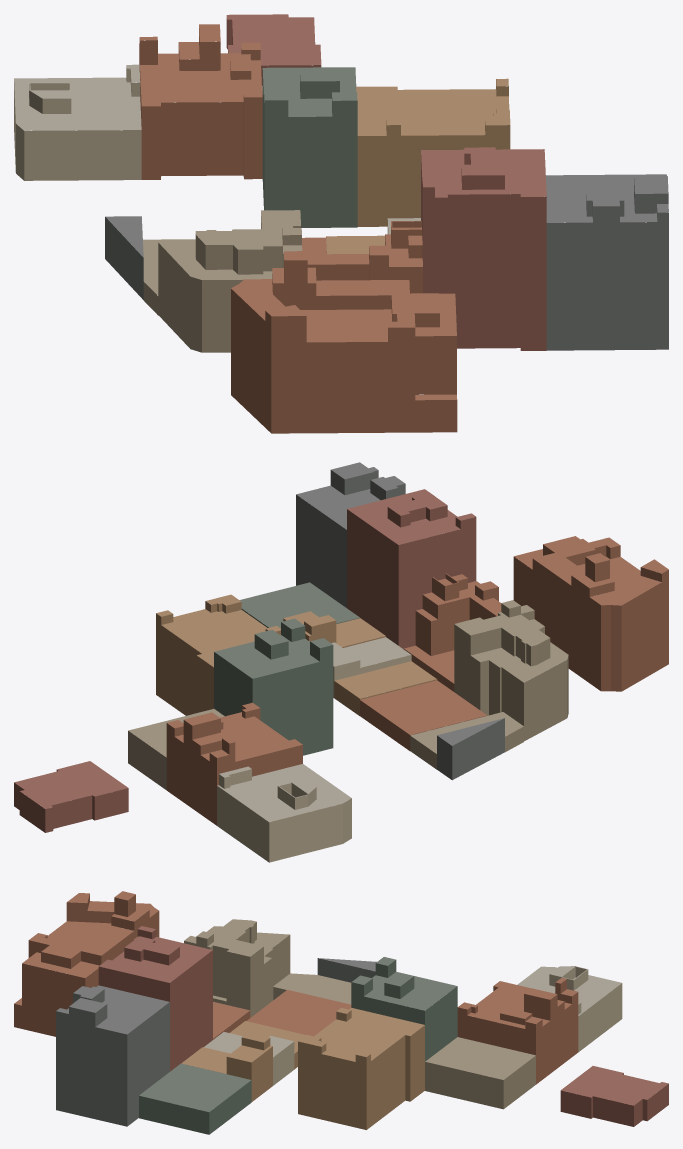
File: tile--5_-10.glb
3 renders of one model, top to bottom at view 1: azimuth 30°, elevation 25°; view 2: azimuth 150°, elevation 25°; view 3: azimuth 270°, elevation 25°, orthographic. The views are drawn at different scales.
Visible parts, largest first — view 1: wall, roof; view 2: wall, roof; view 3: wall, roof.
Part boxes in pixels (x1,y1,x2,y2): wall: (14, 18, 668, 433); roof: (14, 14, 668, 400); wall: (14, 470, 668, 862); roof: (14, 462, 668, 822); wall: (14, 894, 668, 1134); roof: (14, 891, 668, 1111).
Bounding box in the file's own units: 130 × 47.06 × 227.
